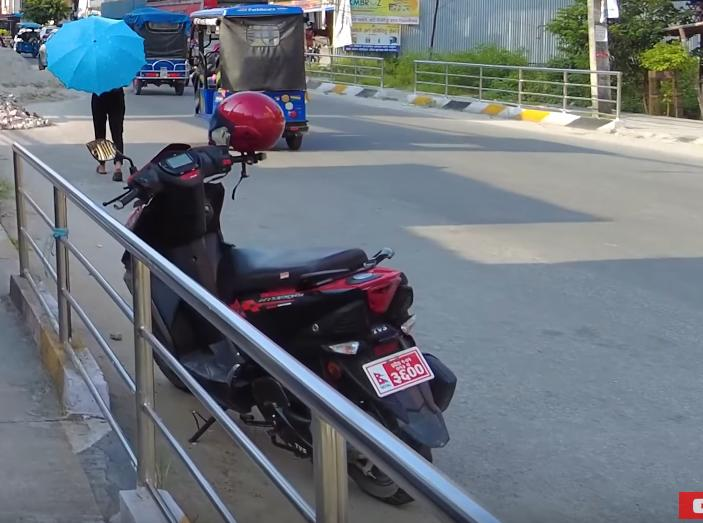e-rickshaw: (186, 0, 311, 151), (123, 7, 190, 95)
scooter: (77, 122, 465, 504)
